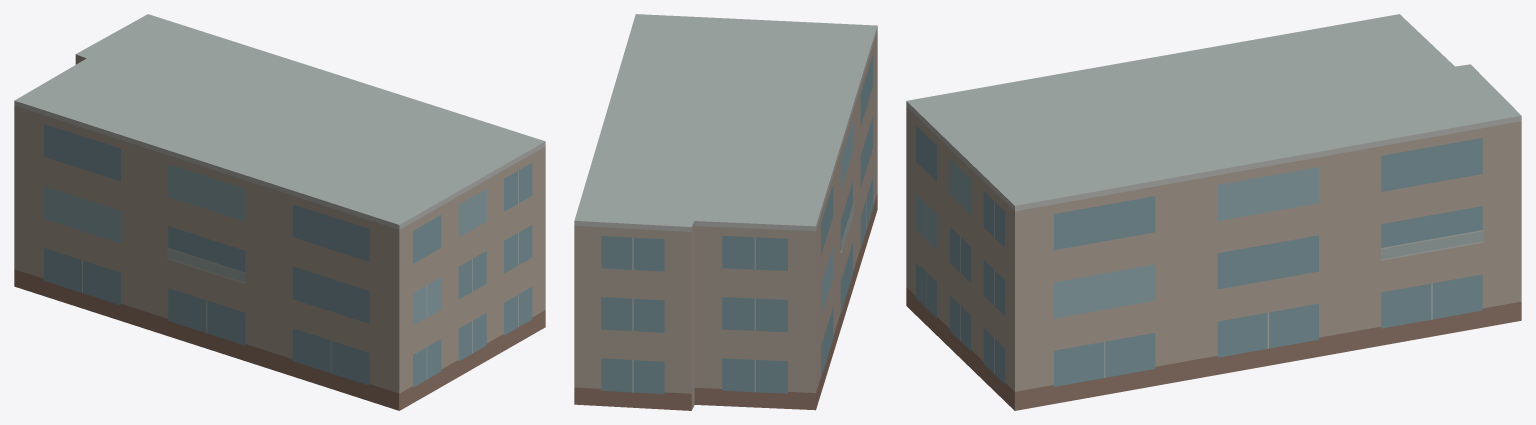
The model's file is survey-upis-33045015.glb.
The picture shows the model from 3 angles, left to right: view 1: azimuth 30°, elevation 25°; view 2: azimuth 150°, elevation 25°; view 3: azimuth 270°, elevation 25°; orthographic projection. The views are drawn at different scales.
Parts seen in each view (by area): view 1: survey-upis-33045015.tmp; view 2: survey-upis-33045015.tmp; view 3: survey-upis-33045015.tmp.
Boxes of the visible parts, bbox=[...] form: survey-upis-33045015.tmp: bbox=[14, 14, 545, 410]; survey-upis-33045015.tmp: bbox=[574, 14, 877, 410]; survey-upis-33045015.tmp: bbox=[906, 14, 1521, 410].
Bounding box in the file's own units: 18.38 × 9.15 × 24.91.
